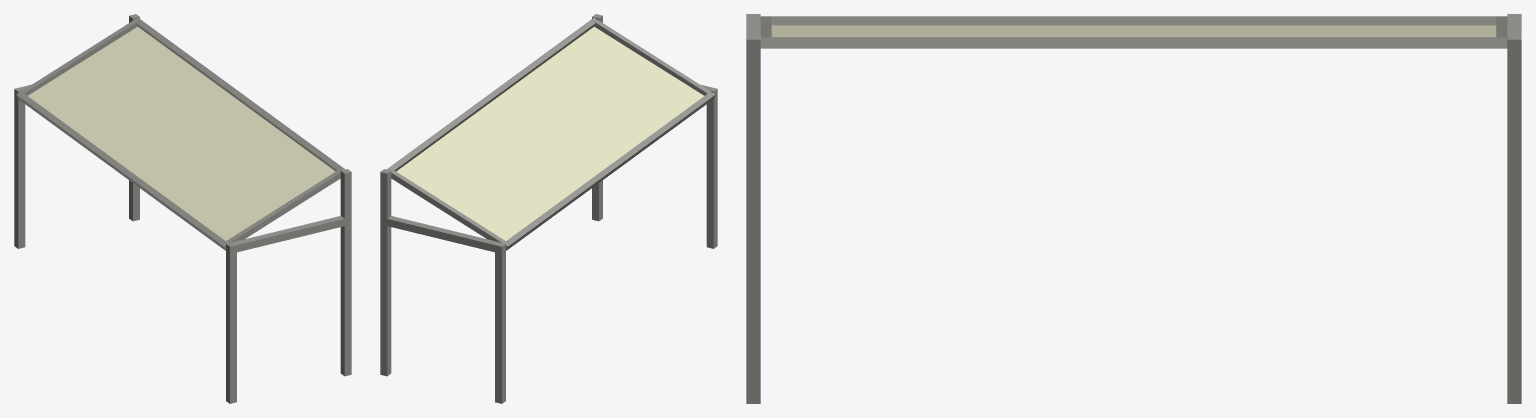
File: RAAL_op60.dae
3 views of the same model, side by side, from view 1: azimuth 30°, elevation 25°; view 2: azimuth 150°, elevation 25°; view 3: azimuth 270°, elevation 25° (orthographic). The views are drawn at different scales.
Parts seen in each view (by area): view 1: RAAL_op60; view 2: RAAL_op60; view 3: RAAL_op60.
Part boxes in pixels (bbox=[...]): RAAL_op60: bbox=[14, 14, 351, 403]; RAAL_op60: bbox=[380, 14, 717, 403]; RAAL_op60: bbox=[746, 14, 1521, 403].
Bounding box in the file's own units: 0.7088 × 2.14 × 1.11.
2 materials, 2 textured.
